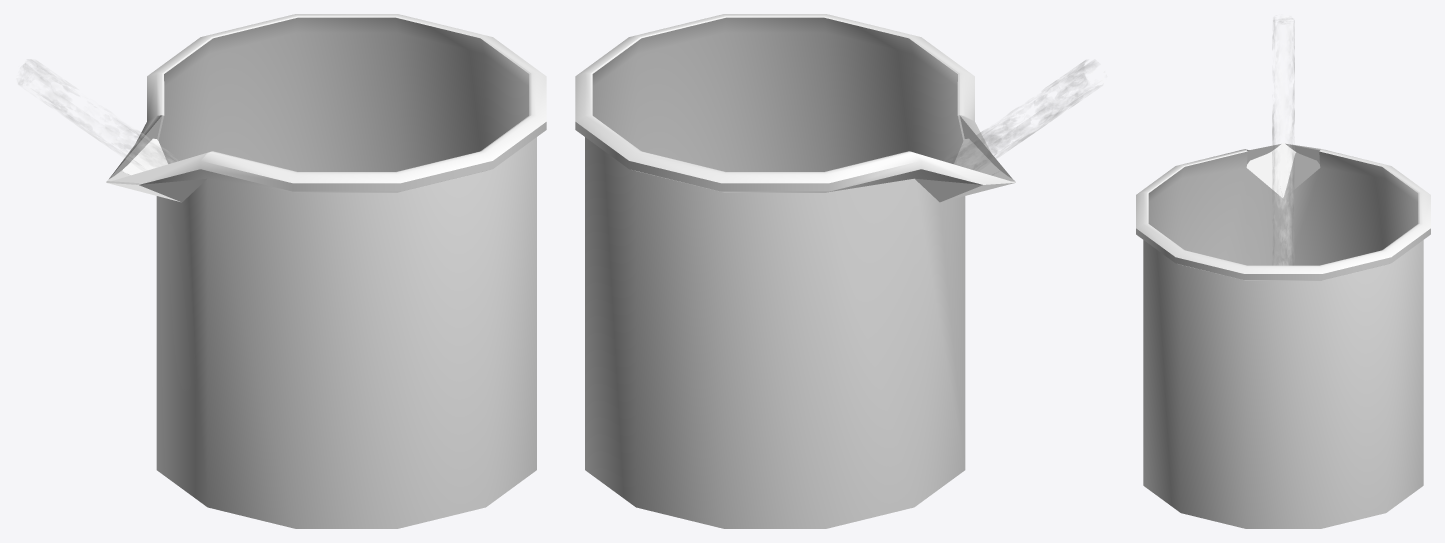
Rendered from beaker.fbx.
The picture shows the model from 3 angles, left to right: view 1: azimuth 30°, elevation 25°; view 2: azimuth 150°, elevation 25°; view 3: azimuth 270°, elevation 25°; orthographic projection. The views are drawn at different scales.
Parts seen in each view (by area): view 1: 円柱.001, 円柱; view 2: 円柱.001, 円柱; view 3: 円柱.001, 円柱.
Boxes of the visible parts, box(x1,y1,x2,y2) form: 円柱.001: box(106, 14, 546, 528); 円柱: box(17, 59, 178, 170); 円柱.001: box(575, 14, 1015, 528); 円柱: box(944, 59, 1104, 170); 円柱.001: box(1136, 142, 1430, 528); 円柱: box(1272, 15, 1294, 265).
Size of the model in its own units: 180 by 159 by 124.
